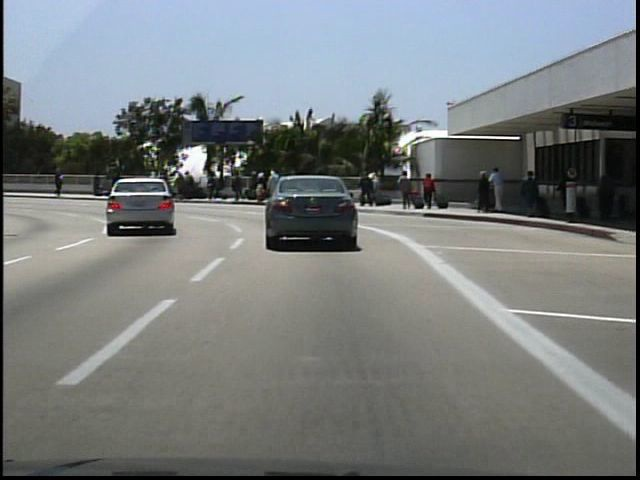person: (594, 164, 620, 225), (519, 165, 544, 221), (560, 162, 582, 221), (475, 168, 495, 219), (489, 165, 509, 216), (398, 170, 417, 213), (422, 170, 441, 211), (358, 171, 376, 208), (53, 166, 69, 199), (90, 170, 108, 199), (110, 169, 128, 198)
